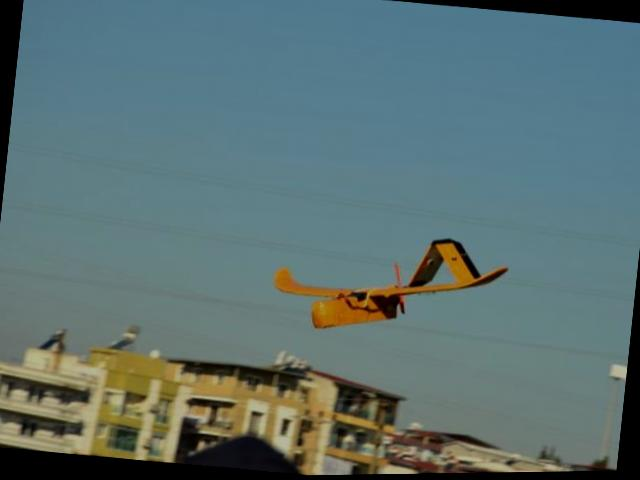iha: (259, 214, 519, 353)
